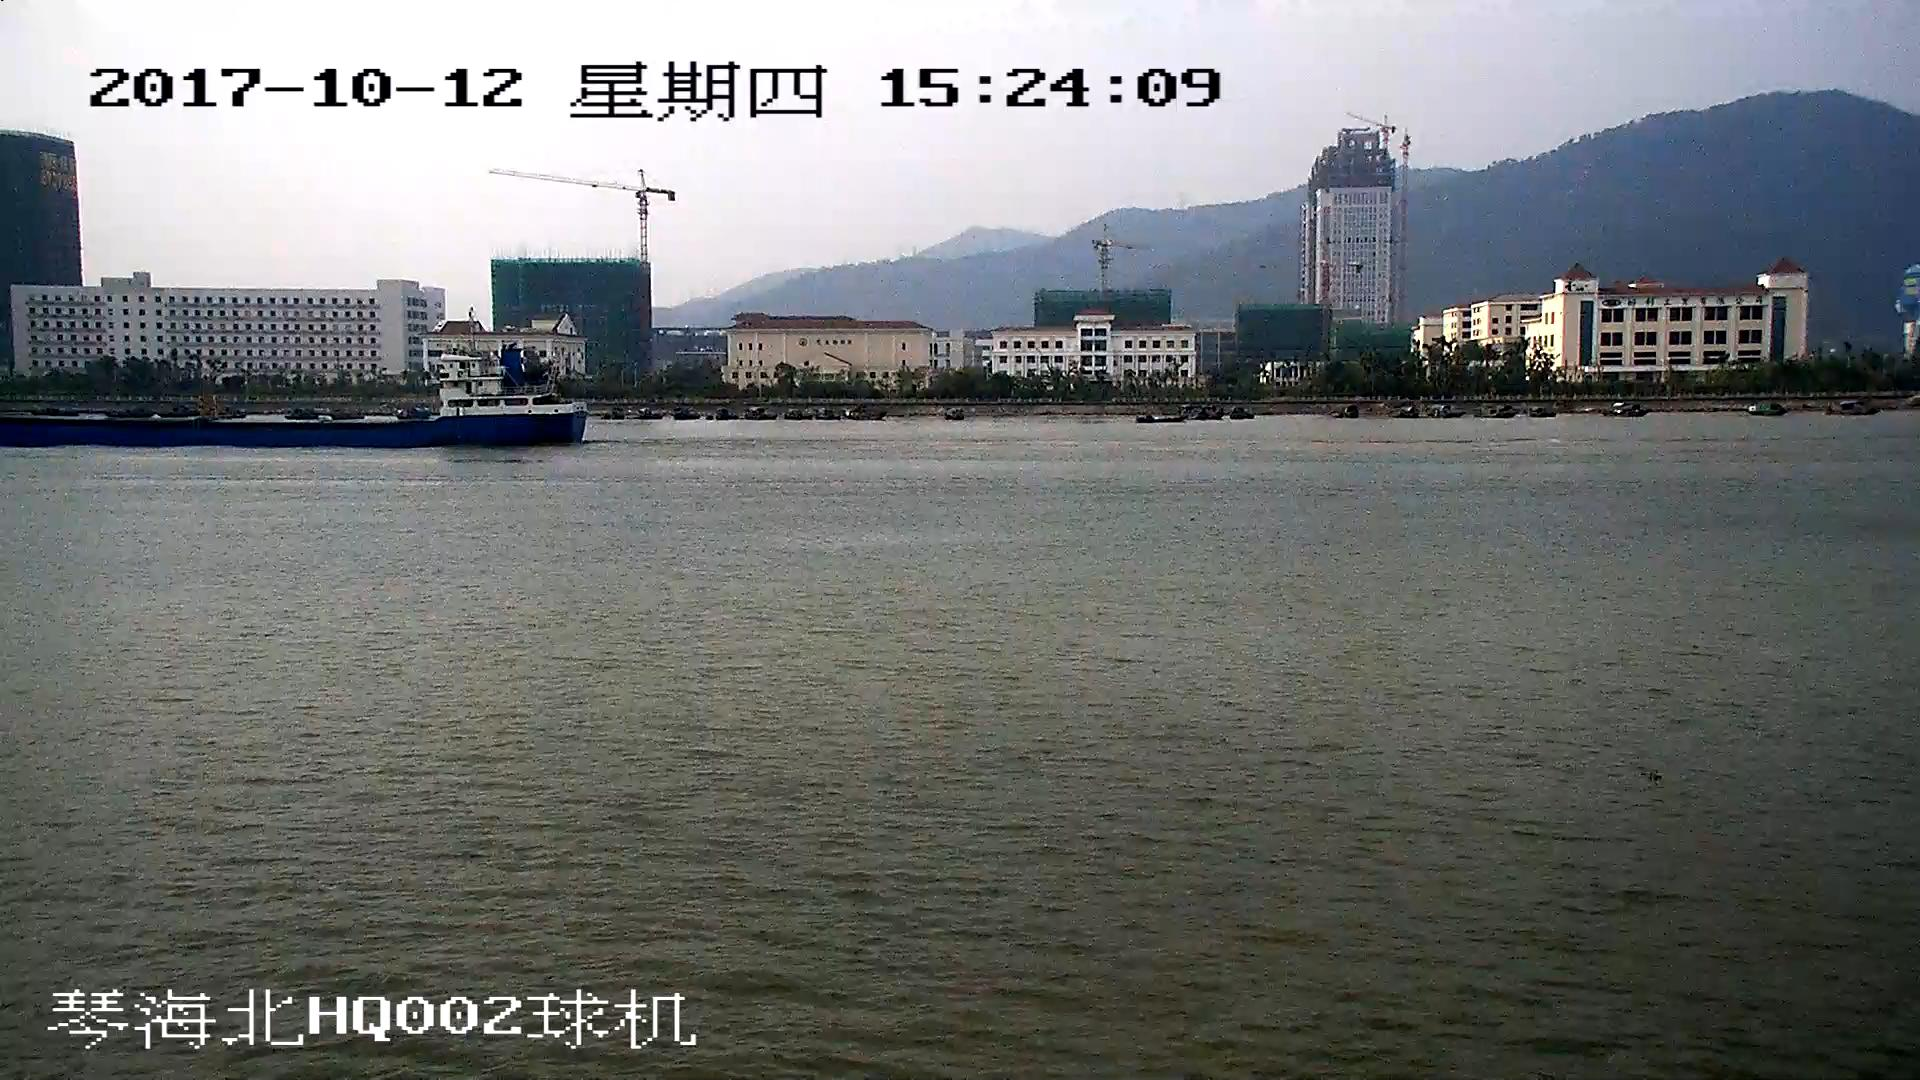general cargo ship: (1, 353, 591, 449)
